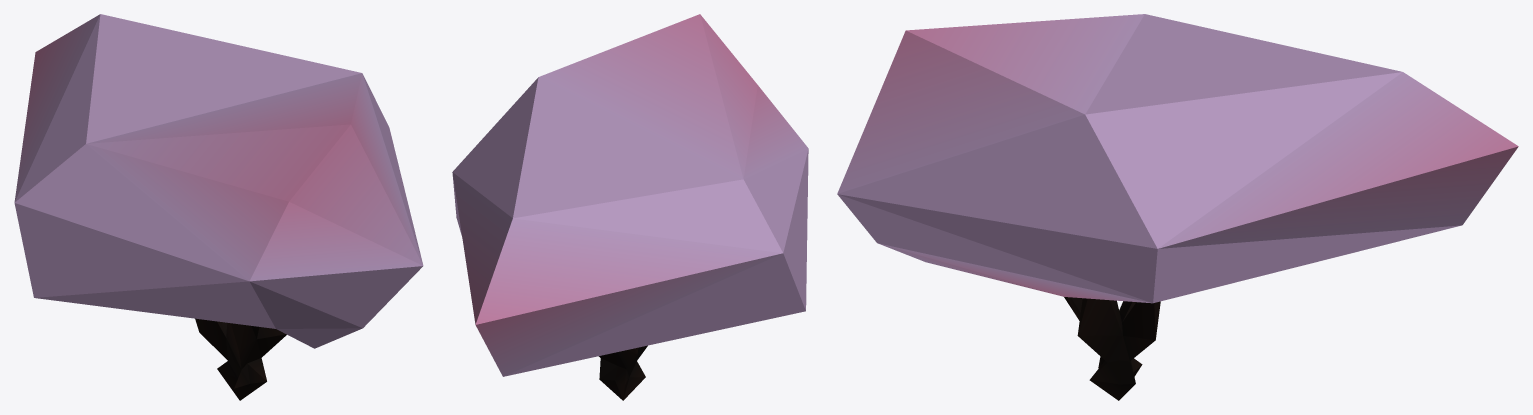
File: c_tree_cherry_aa.fbx
3 views of the same model, side by side, from view 1: azimuth 30°, elevation 25°; view 2: azimuth 150°, elevation 25°; view 3: azimuth 270°, elevation 25° (orthographic). The views are drawn at different scales.
Parts seen in each view (by area): view 1: c_tree_cherry_aa; view 2: c_tree_cherry_aa; view 3: c_tree_cherry_aa.
Boxes of the visible parts, x1,y1,x2,y2 form: c_tree_cherry_aa: (14,14,423,400); c_tree_cherry_aa: (452,14,808,400); c_tree_cherry_aa: (837,14,1518,400).
Bounding box in the file's own units: 6.48 × 5.77 × 9.44.
